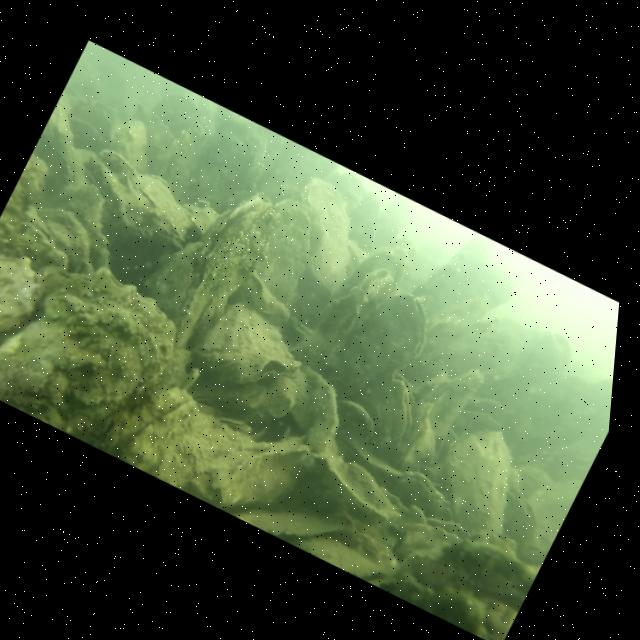Oyster-Closed: (0, 231, 197, 463), (148, 174, 293, 374), (411, 408, 544, 553), (322, 276, 443, 420), (70, 143, 210, 253), (99, 368, 203, 483), (406, 349, 488, 447), (26, 100, 111, 188), (384, 394, 455, 480), (361, 373, 431, 457), (385, 462, 464, 528), (331, 431, 413, 490), (231, 264, 300, 325), (217, 412, 258, 439)
Oyster-Indeterminate: (16, 165, 142, 290), (229, 186, 340, 317), (0, 238, 59, 401), (130, 222, 216, 326), (322, 392, 384, 448)
Oyster-Open: (186, 293, 315, 408), (309, 252, 400, 368), (396, 501, 475, 572), (482, 479, 550, 551)
